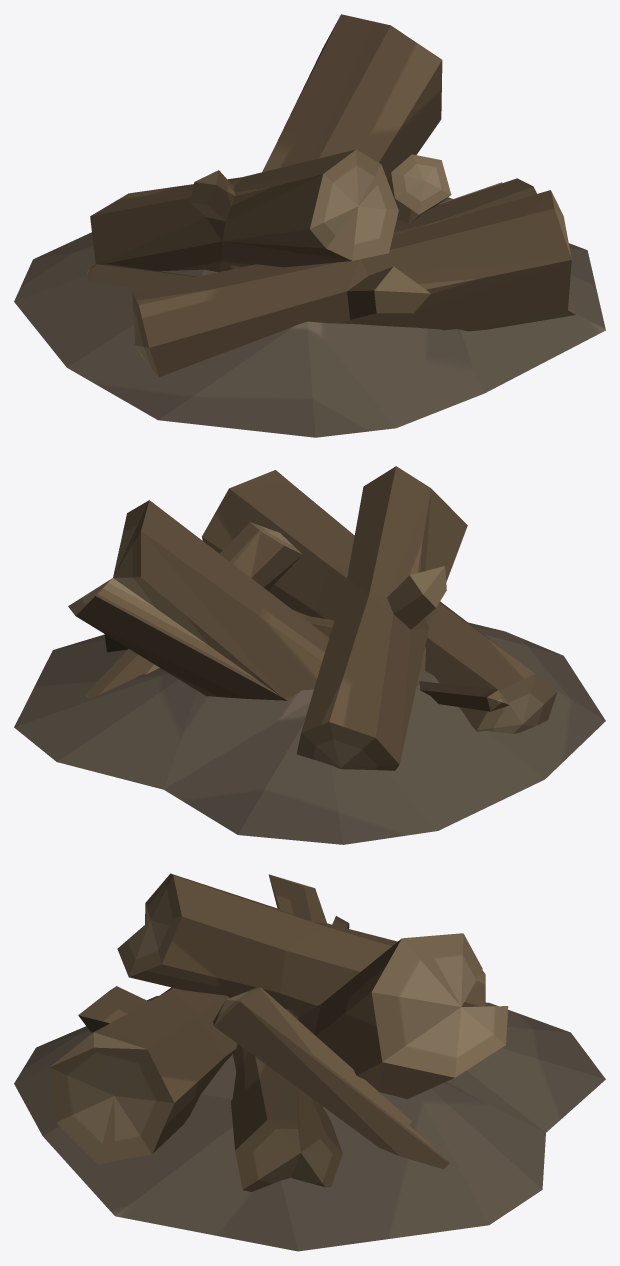
File: Prop_Camp_Fireplace_01.glb
The picture shows the model from 3 angles, top to bottom: view 1: azimuth 30°, elevation 25°; view 2: azimuth 150°, elevation 25°; view 3: azimuth 270°, elevation 25°; orthographic projection. The views are drawn at different scales.
Visible parts, largest first — view 1: SM_Prop_Camp_Fireplace_01; view 2: SM_Prop_Camp_Fireplace_01; view 3: SM_Prop_Camp_Fireplace_01.
Part boxes in pixels (left/top/right/bottom): SM_Prop_Camp_Fireplace_01: left=14, top=14, right=605, bottom=437; SM_Prop_Camp_Fireplace_01: left=14, top=466, right=605, bottom=844; SM_Prop_Camp_Fireplace_01: left=14, top=873, right=605, bottom=1251.
Bounding box in the file's own units: 0.8382 × 0.3797 × 0.7971.
1 material, 1 textured.
